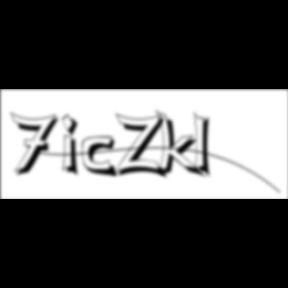7: (11, 111, 66, 179)
I: (194, 110, 218, 182)
Z: (116, 112, 170, 181)
c: (82, 136, 122, 180)
i: (62, 112, 86, 180)
k: (156, 108, 208, 181)
